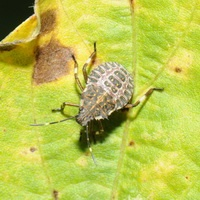insect: (30, 42, 162, 146)
